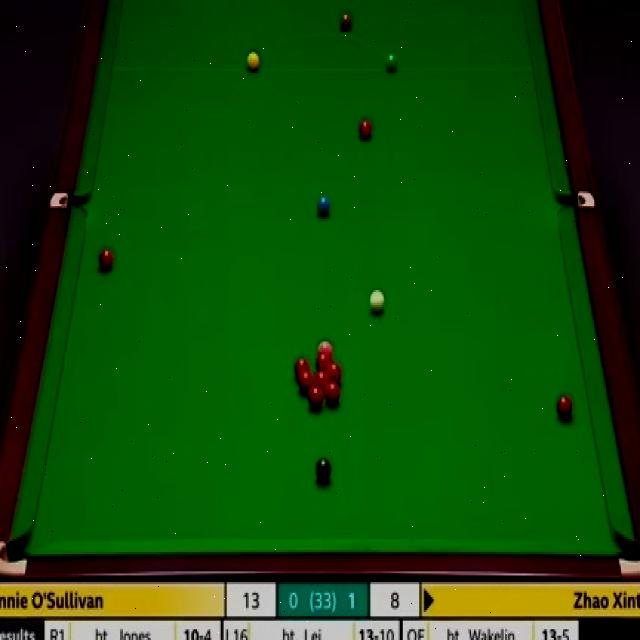black-ball: (315, 456, 333, 482)
blue-ball: (316, 194, 331, 218)
brown-ball: (338, 12, 353, 33)
green-ball: (383, 50, 398, 73)
pink-ball: (318, 341, 332, 360)
red-ball: (99, 243, 115, 274), (556, 394, 572, 422), (324, 382, 340, 405), (308, 387, 323, 411), (316, 368, 332, 390), (358, 117, 372, 142), (296, 356, 310, 378), (299, 370, 312, 392), (331, 362, 345, 382), (316, 358, 330, 369)
white-ball: (368, 287, 385, 312)
yellow-ball: (246, 51, 260, 71)
